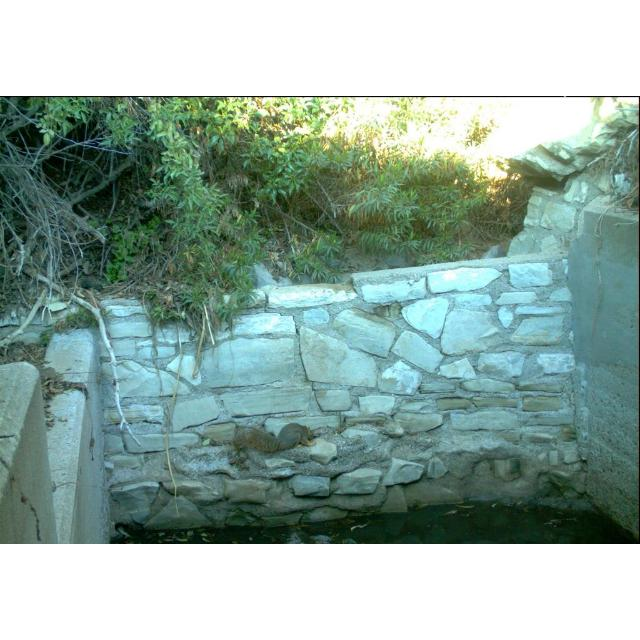animals: (228, 416, 320, 460)
